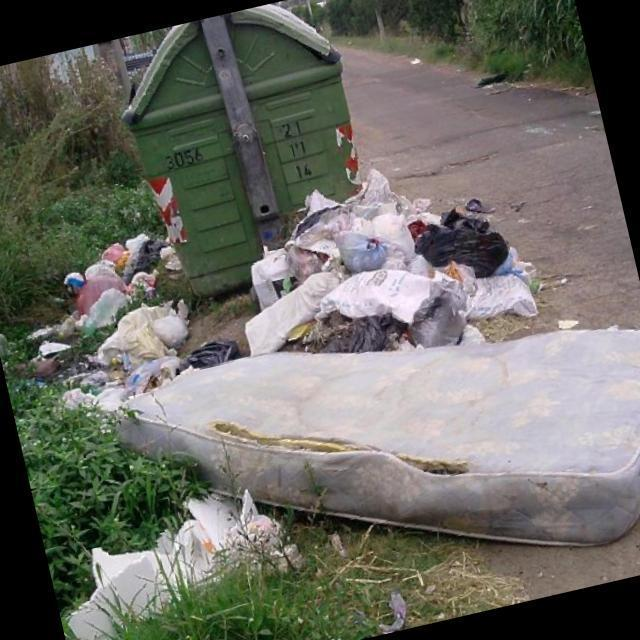garbage: (228, 160, 520, 376), (54, 486, 297, 640), (35, 214, 201, 414)
